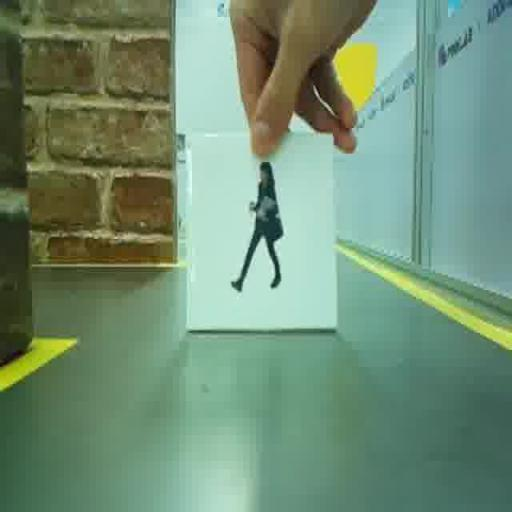human: (231, 162, 283, 291)
